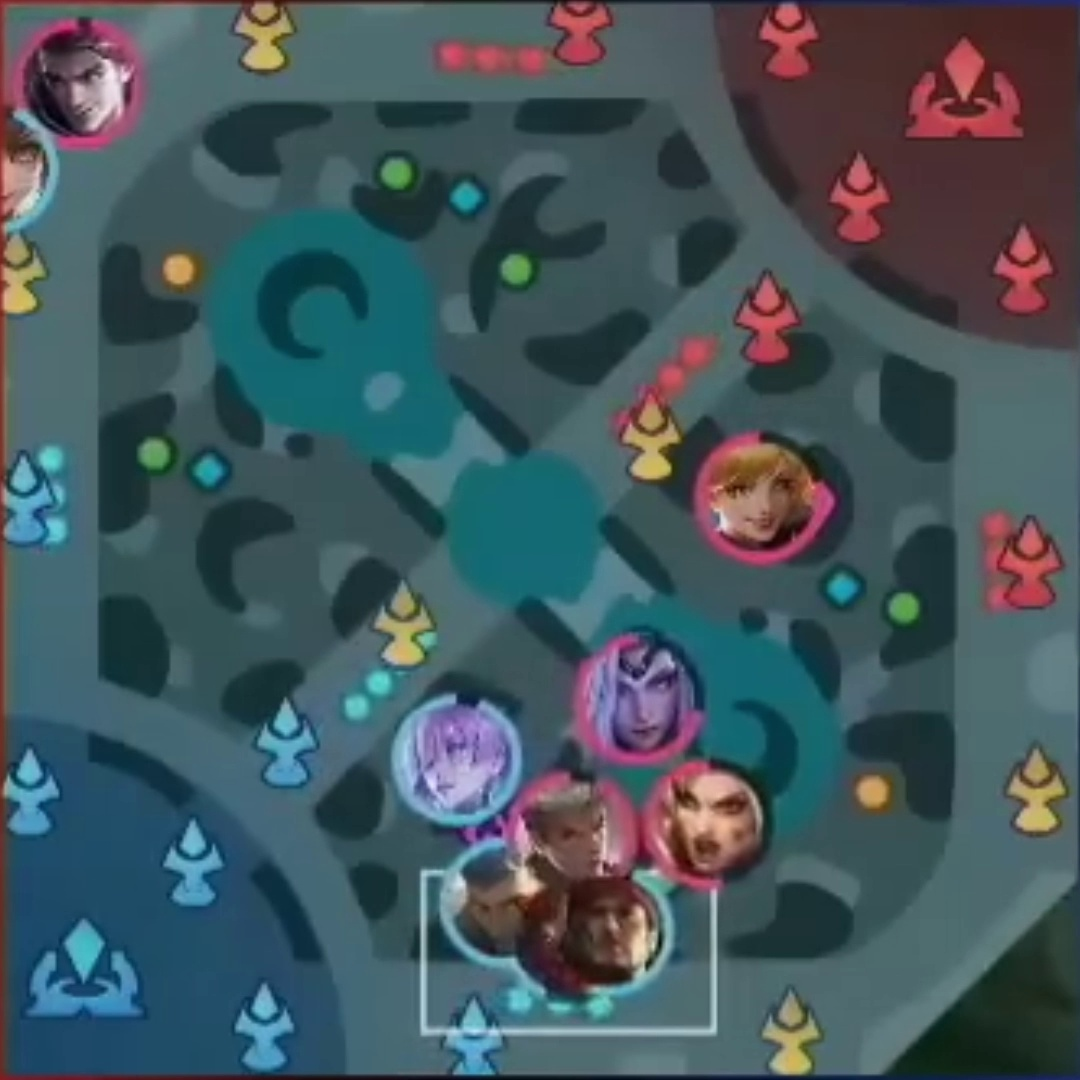Chou: (525, 788, 623, 881)
Claude: (33, 30, 132, 130)
Fanny: (706, 428, 808, 546)
Fredrinn: (449, 852, 547, 953)
Lapu-Lapu: (572, 894, 665, 993)
Masha: (648, 767, 762, 877)
Novaria: (400, 704, 516, 818)
Valentina: (582, 635, 697, 757)
Wanwan: (1, 124, 55, 216)
